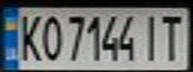1: (81, 11, 103, 62)
4: (118, 11, 142, 63), (100, 11, 121, 62)
7: (63, 11, 84, 62)
I: (139, 11, 163, 62)
K: (12, 11, 45, 63)
O: (36, 11, 63, 62)
T: (157, 11, 187, 62)
